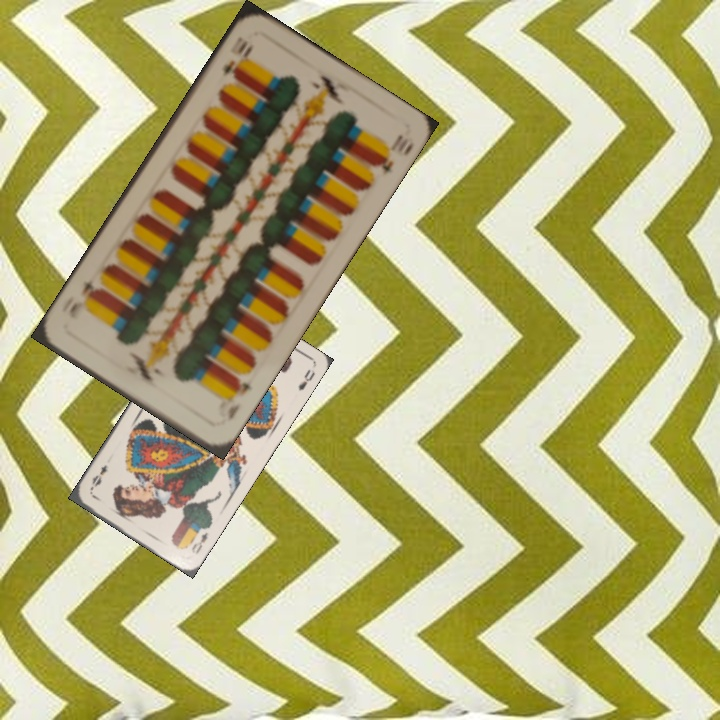E10: (218, 35, 256, 80), (223, 374, 255, 423)
EO: (187, 528, 210, 556)
